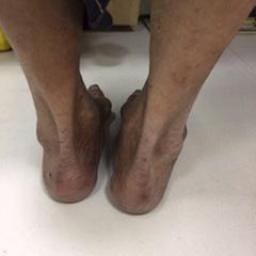Back View -Both Feet-: (19, 46, 208, 223)
